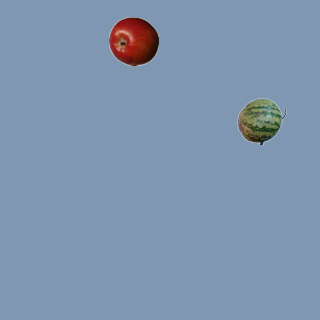Apple Braeburn: (108, 16, 158, 66)
Watermelon: (236, 96, 286, 146)
